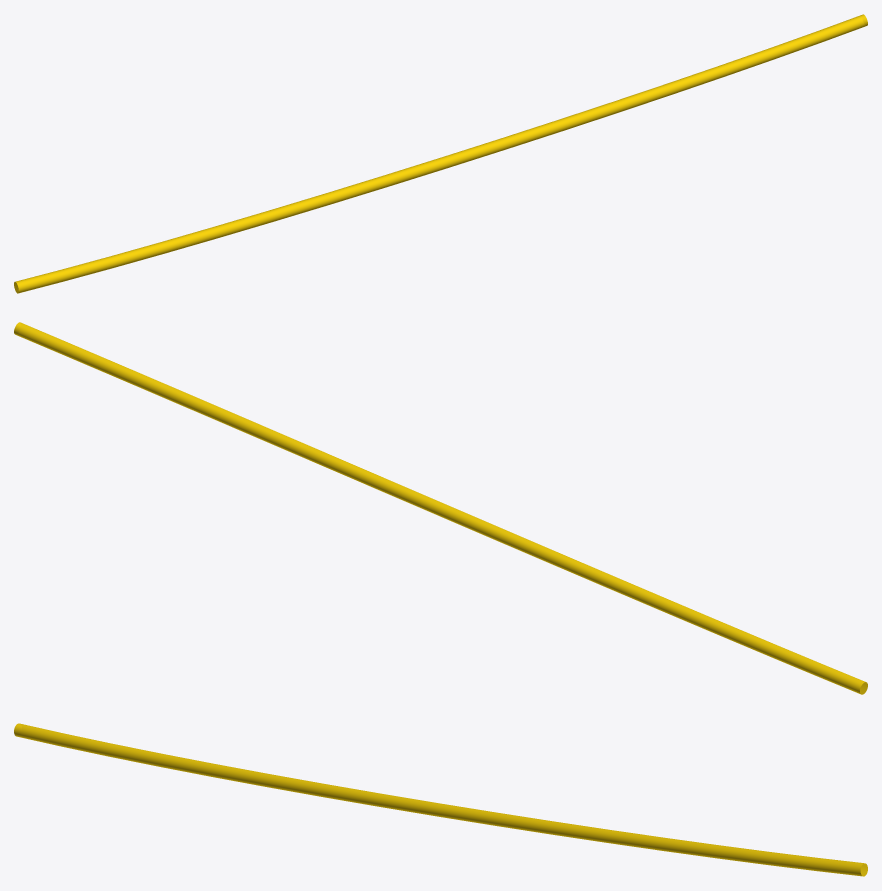
Rendered from Event_420107950_track_78.fbx.
The picture shows the model from 3 angles, top to bottom: view 1: azimuth 30°, elevation 25°; view 2: azimuth 150°, elevation 25°; view 3: azimuth 330°, elevation 25°; orthographic projection. The views are drawn at different scales.
Visible parts, largest first — view 1: Model; view 2: Model; view 3: Model.
Boxes of the visible parts, x1=… form: Model: x1=14, y1=14, x2=867, y2=293; Model: x1=14, y1=322, x2=867, y2=694; Model: x1=14, y1=723, x2=867, y2=876.
Bounding box in the file's own units: 3.07 × 0.4015 × 0.305.
